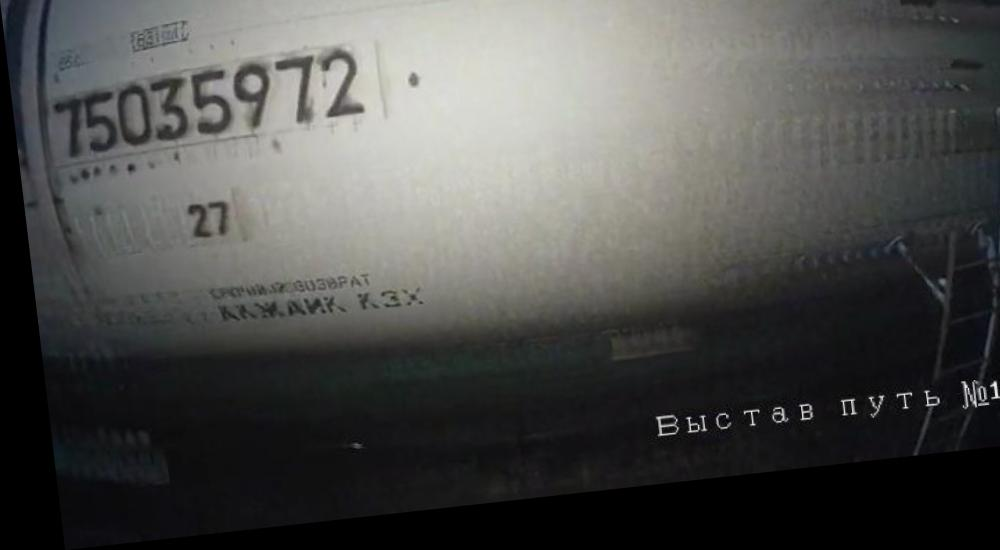Wagon-number: (43, 46, 370, 170)
